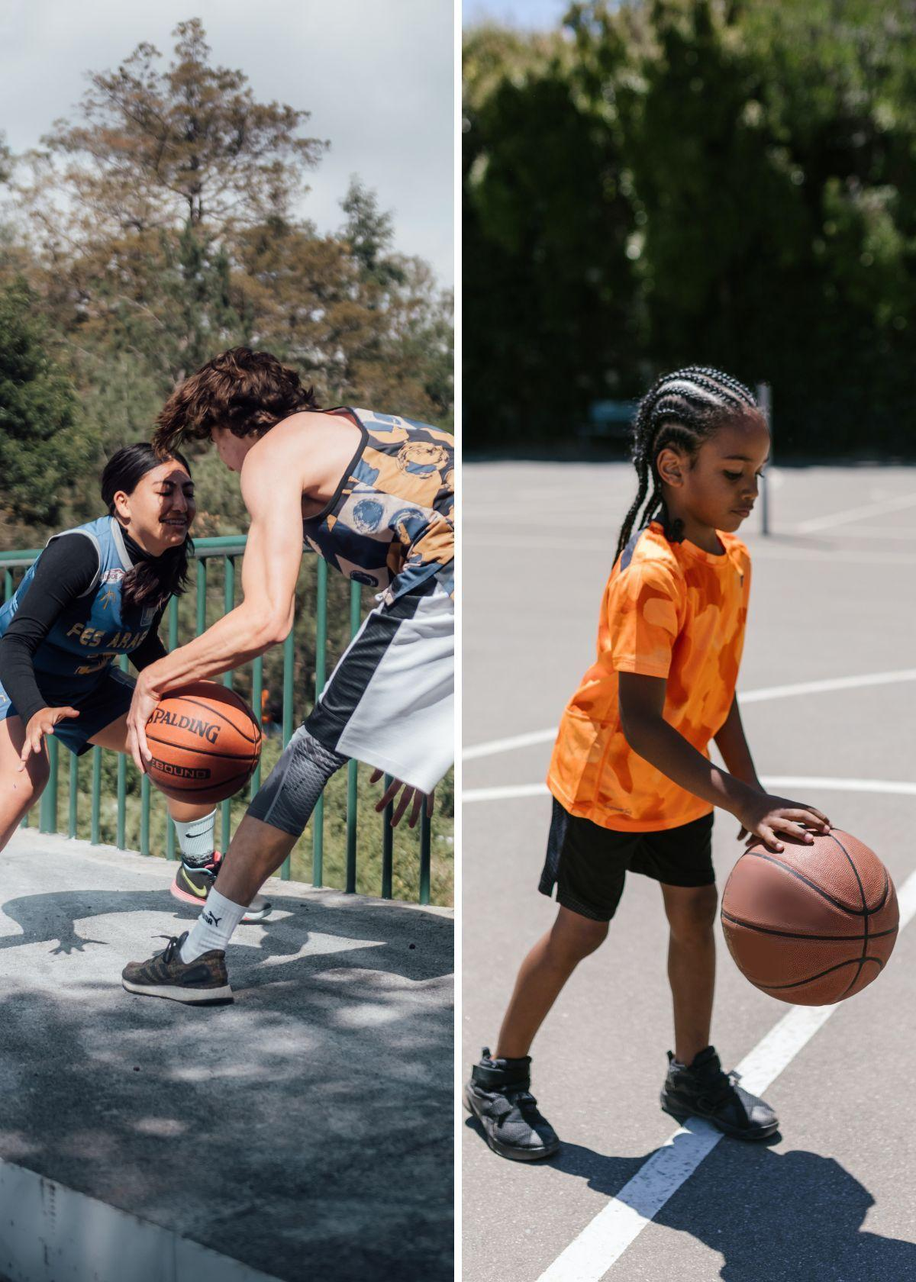basketball: (719, 824, 901, 1015), (149, 683, 265, 807)
